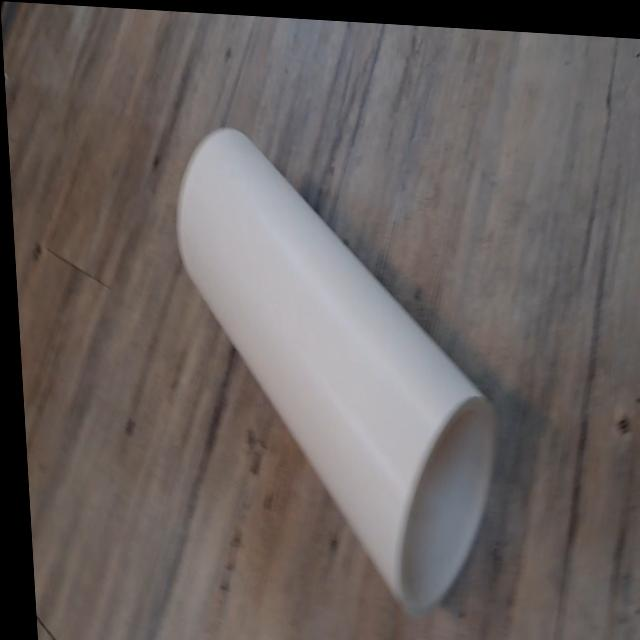CORAL: (158, 114, 511, 617)
